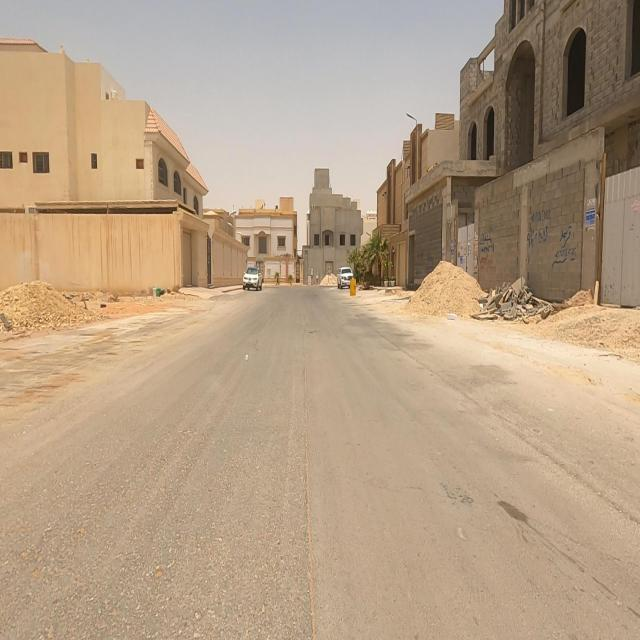Graffiti: (552, 225, 578, 268), (528, 210, 550, 243), (479, 231, 495, 255)
